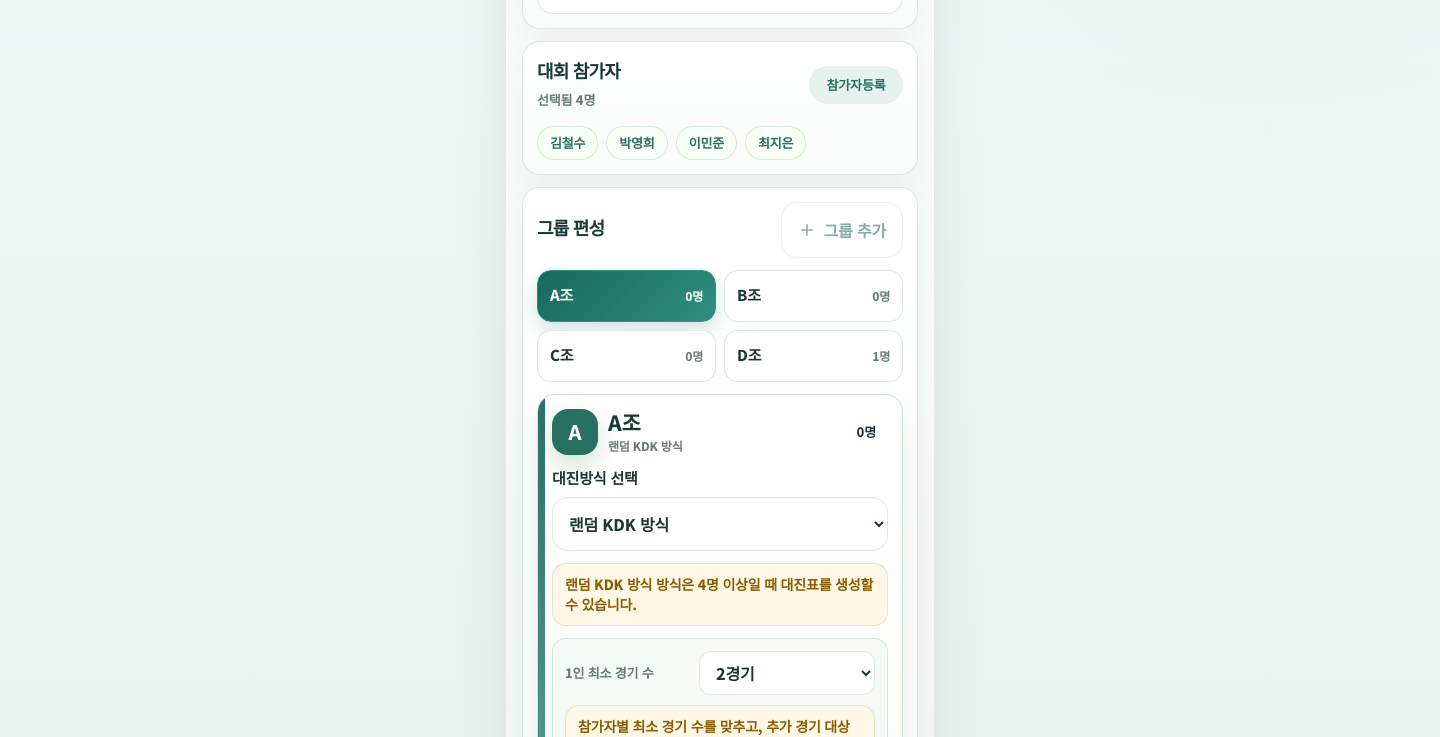
it: TournamentManageClient save timing › renumbers remaining groups after a group is deleted
(page scrolled)
Click the tab "C조 0명". click: point(626, 356)
box: [537,330,716,382]
(page scrolled)
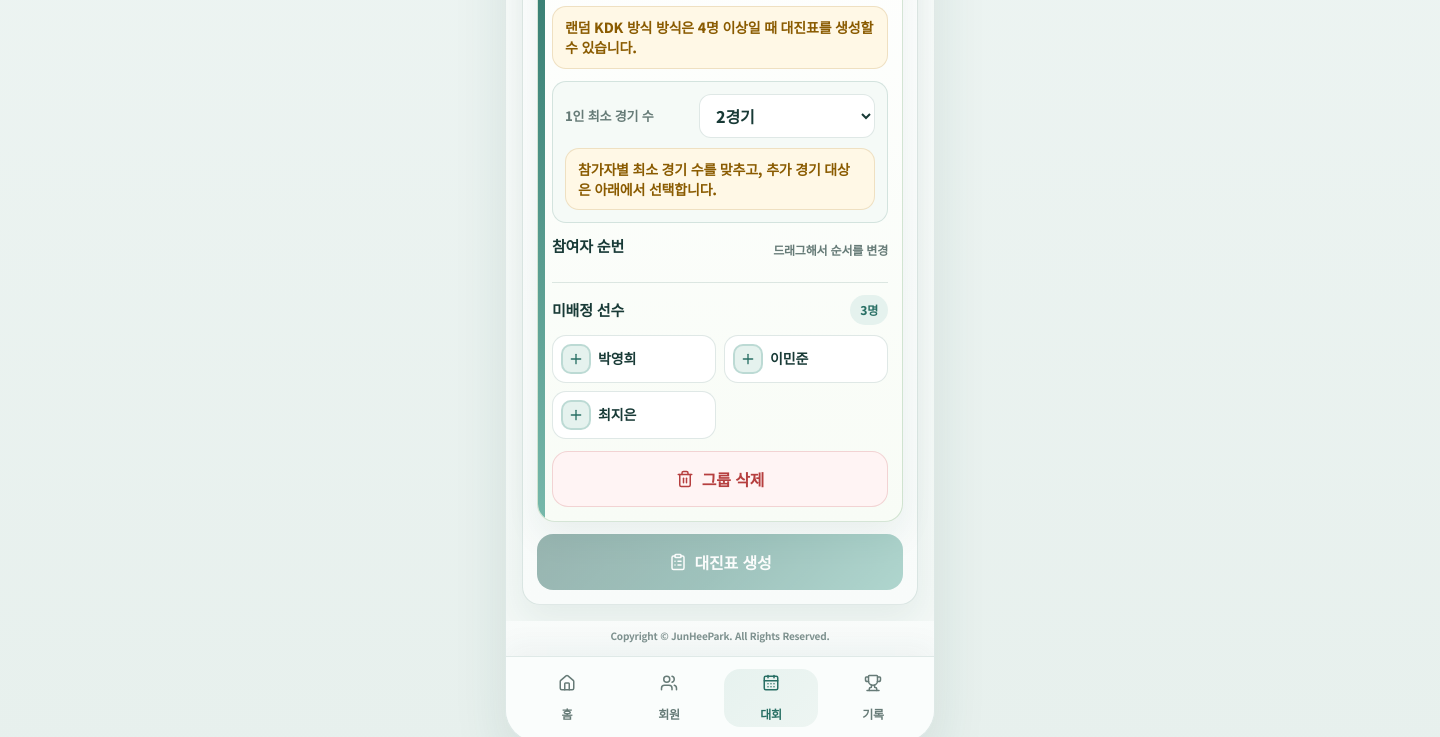
Click the button "그룹 삭제". click: point(720, 479)
box: [552,451,888,507]
(page scrolled)
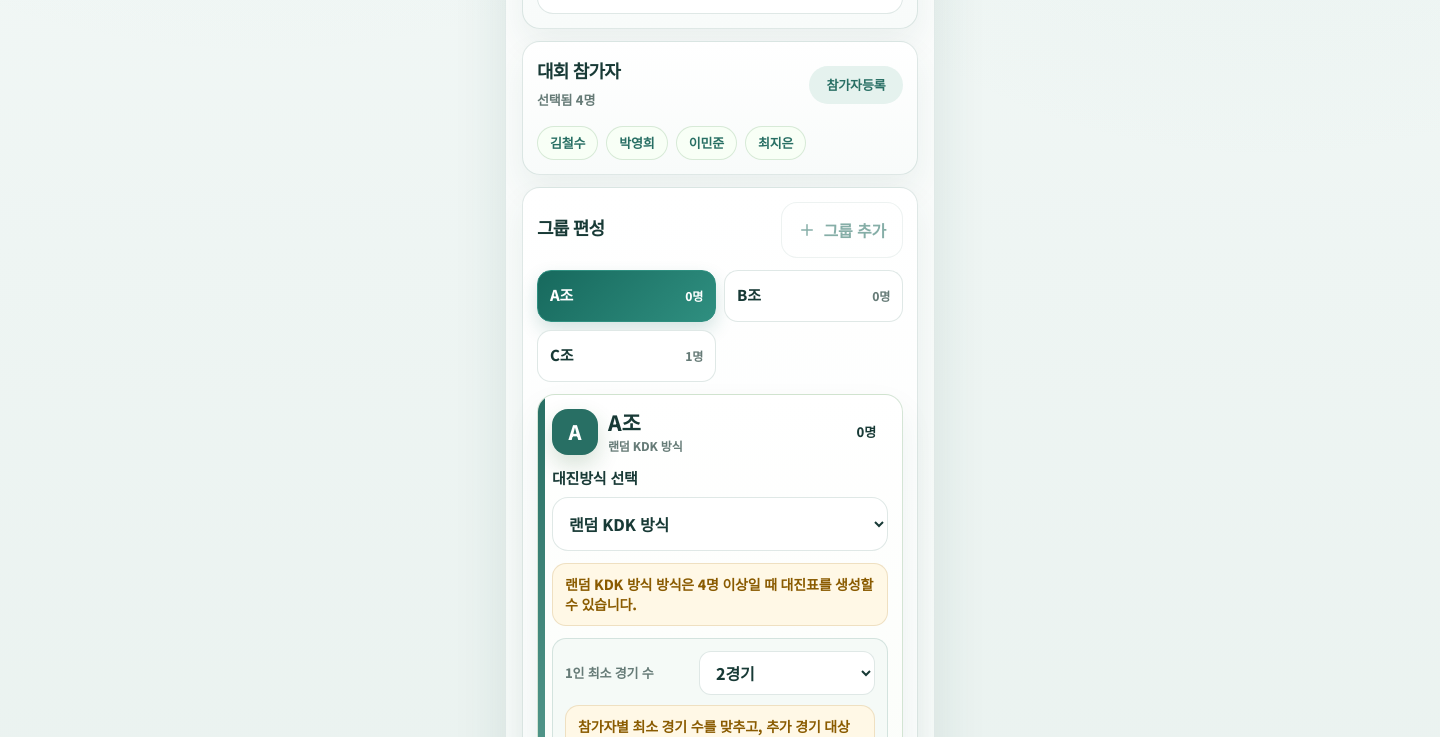
Check: the tab "B조 0명" is shown, box [724,270,903,322]
Check: the tab "C조 1명" is shown
Click the tab "C조 1명". click: point(626, 356)
box: [537,330,716,382]
(page scrolled)
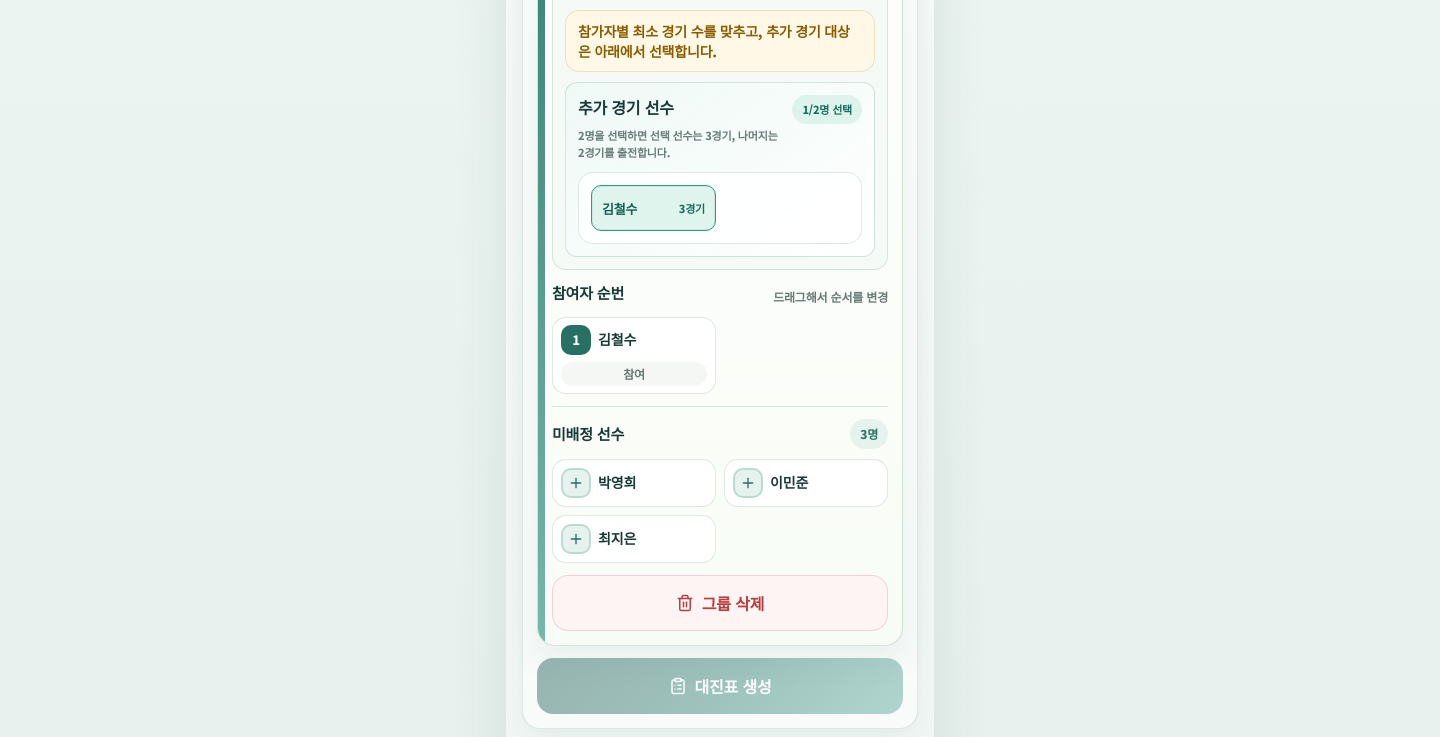
Check: the element with class "group-selected-member-grid" shows "김철수", box [552,317,716,394]
